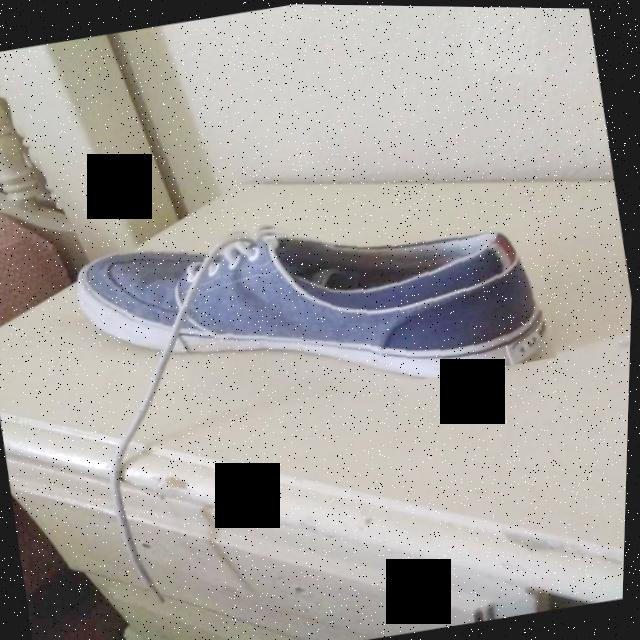shoe: (64, 173, 563, 437)
